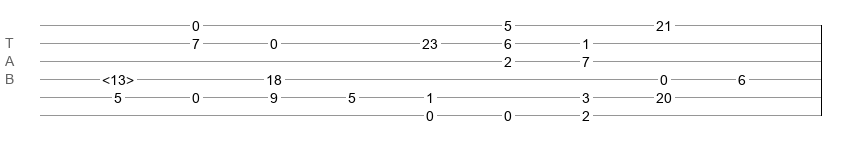0: (192, 18, 200, 28), (192, 90, 200, 100), (270, 36, 278, 46), (426, 108, 434, 118), (504, 108, 512, 118), (660, 72, 668, 82)
1: (426, 90, 434, 100), (582, 36, 590, 46)
18: (266, 72, 282, 82)
2: (504, 54, 512, 64), (582, 108, 590, 118)
20: (656, 90, 672, 100)
21: (656, 18, 672, 28)
23: (422, 36, 438, 46)
3: (582, 90, 590, 100)
5: (114, 90, 122, 100), (348, 90, 356, 100), (504, 18, 512, 28)
6: (504, 36, 512, 46), (738, 72, 746, 82)
7: (192, 36, 200, 46), (582, 54, 590, 64)
9: (270, 90, 278, 100)
harmonic: (102, 72, 134, 82)
